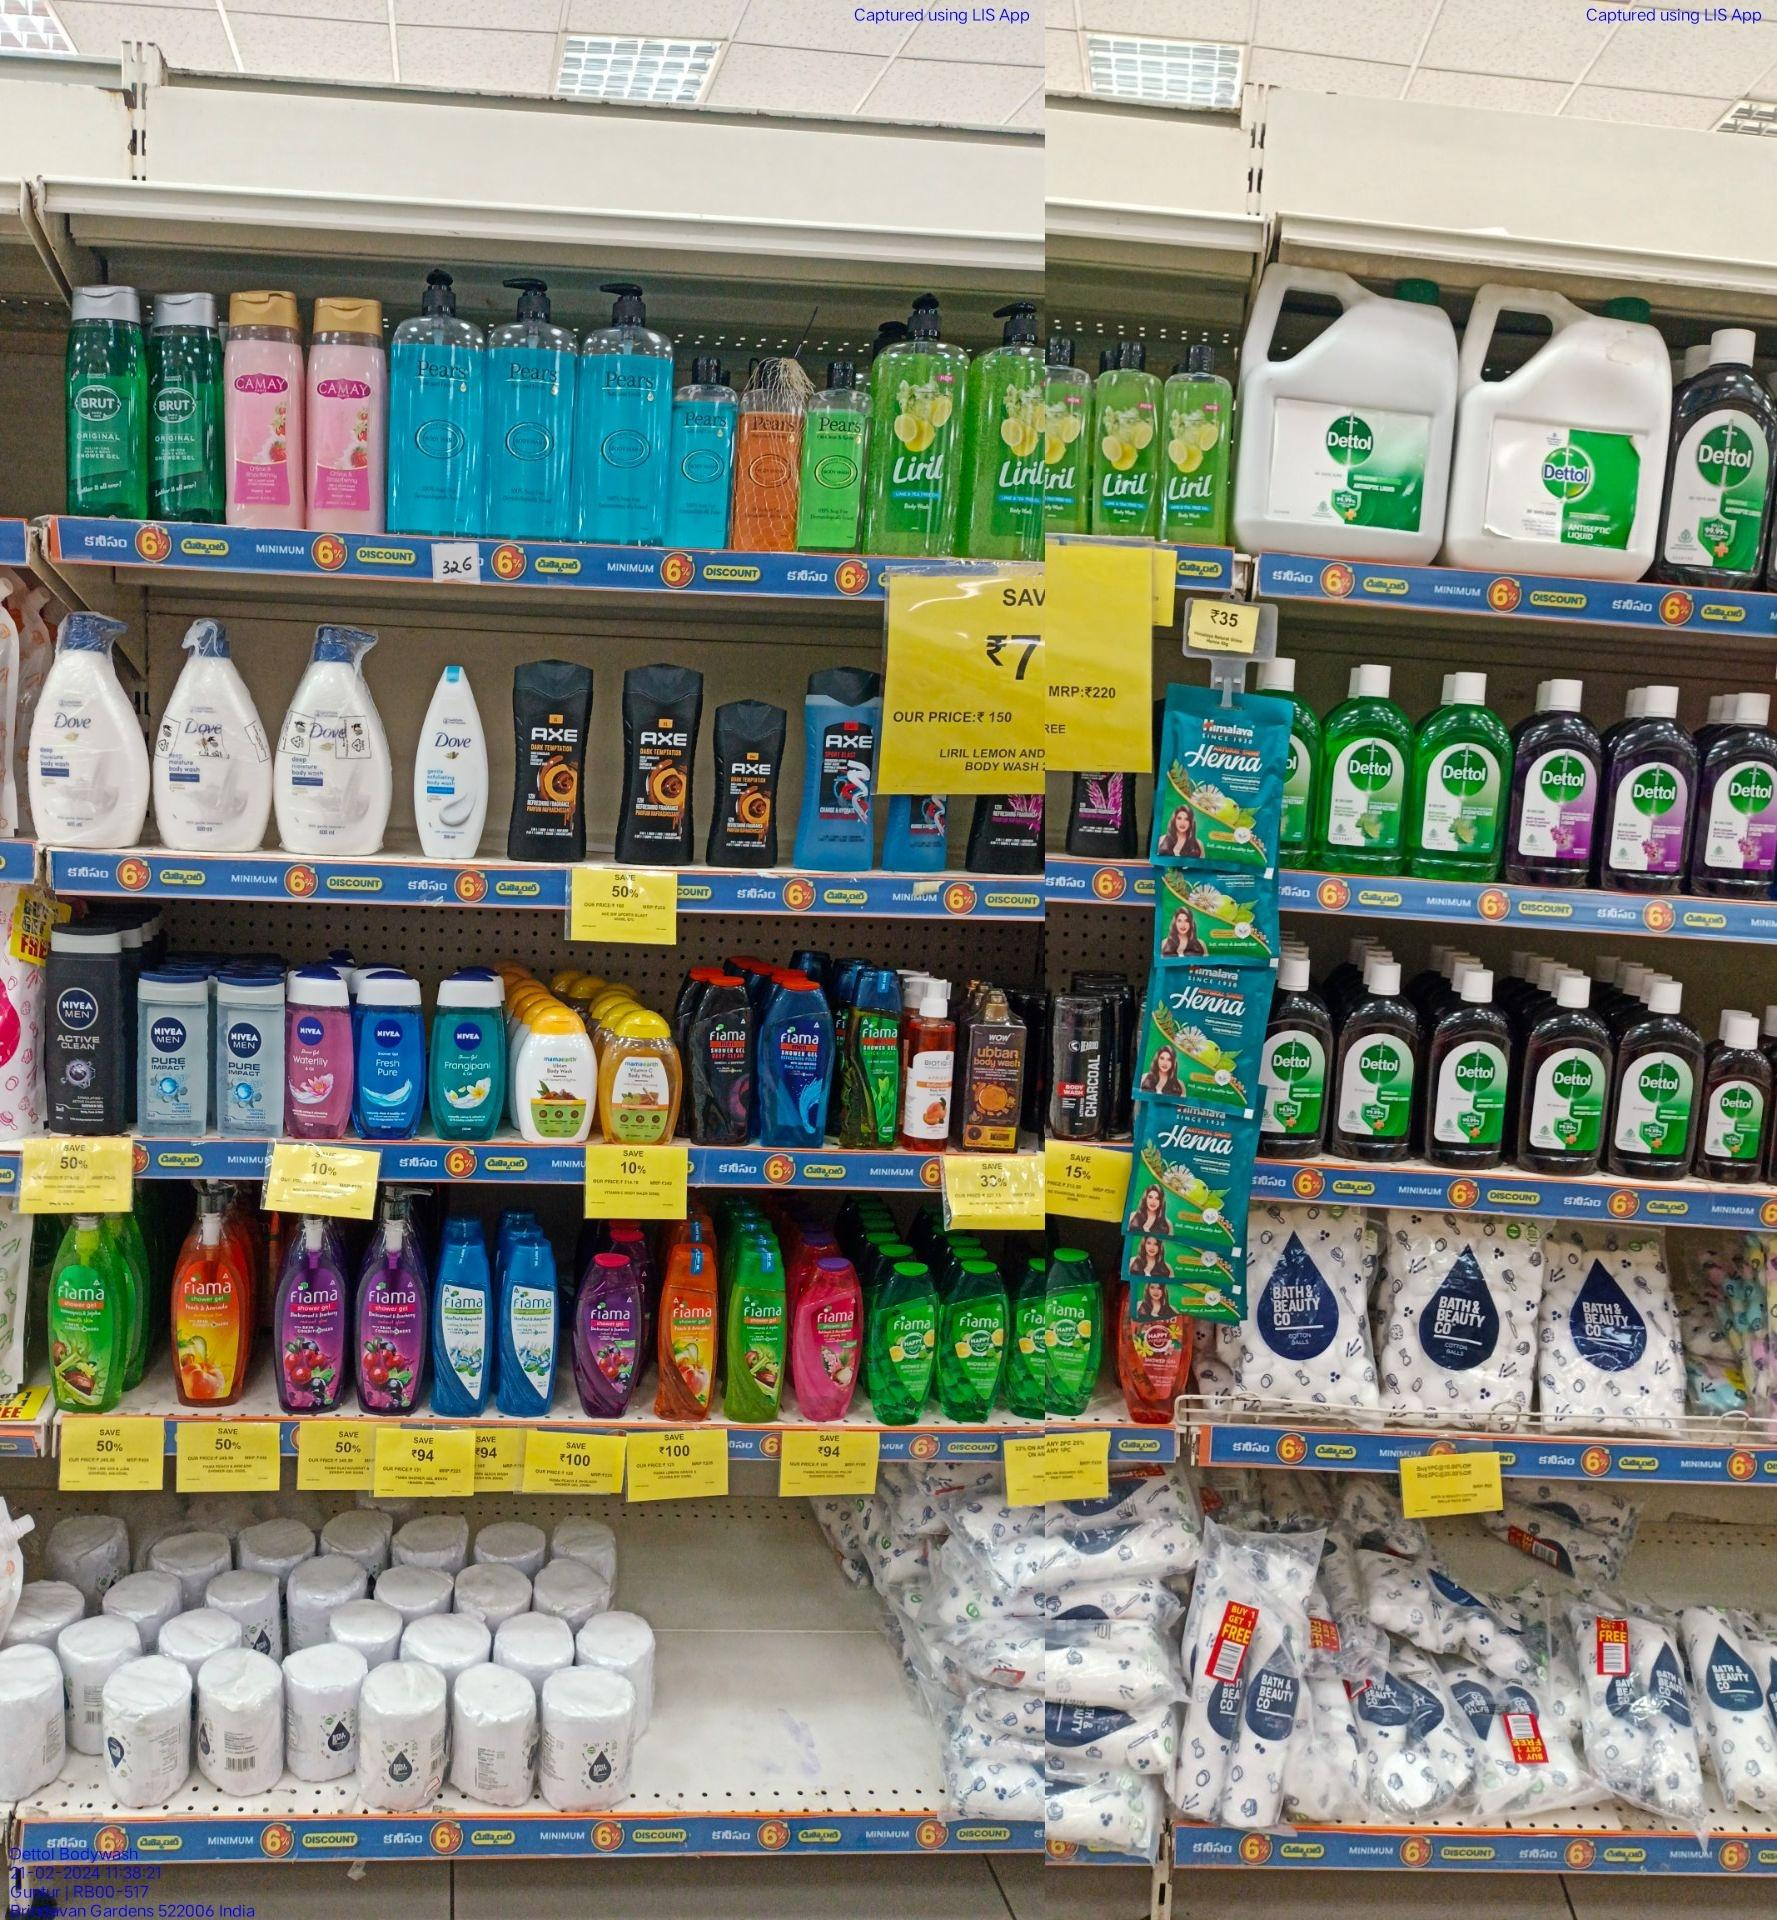Dove_Gentle_Exfoliating_Body_Wash_250ML: (410, 664, 490, 861)
Fiama_Shower_Gel_Patchouli_and_Macadamia_250ML: (790, 1256, 865, 1422)
Liril_Lime_and_Tea_Tree_Oil_Body_Wash_250ML: (1163, 341, 1235, 545), (1089, 340, 1163, 535)
Nivea_Shower_Gel_Frangipani_and_Oil_250ML: (427, 970, 505, 1139)
Nivea_Shower_Gel_Waterlily_and_Oil_250ML: (284, 968, 355, 1139)
Pears_Pure_Glycerin_and_Lemon_Flower_Extracts_Body_Wash_250ML: (800, 358, 875, 550)
Pears_Pure_Glycerin_and_Mint_Extracts_Body_Wash_250ML: (668, 351, 740, 549)
